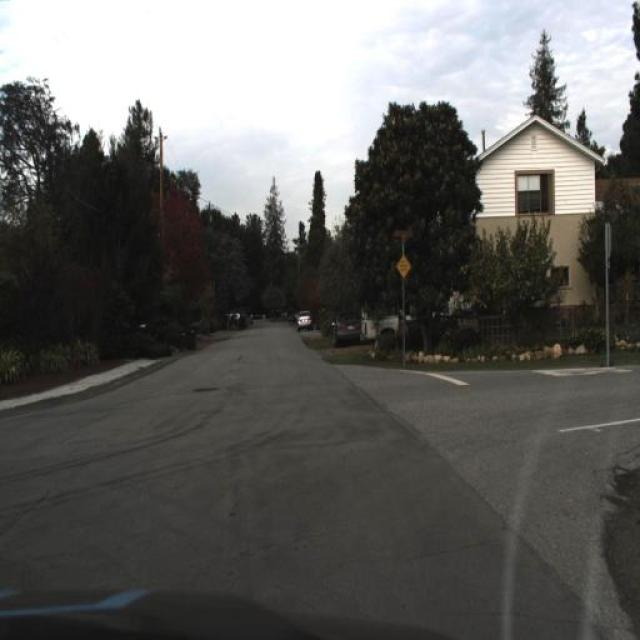car: (360, 299, 410, 349), (331, 305, 362, 354), (330, 305, 362, 345), (297, 306, 314, 332), (297, 308, 314, 331)
